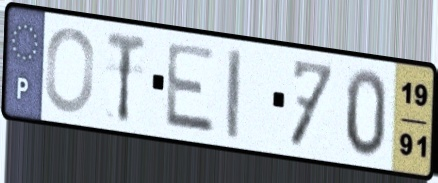0: (343, 66, 390, 161)
7: (289, 56, 336, 151)
E: (163, 39, 219, 137)
I: (225, 45, 243, 143)
O: (42, 25, 97, 116)
T: (104, 28, 148, 125)
